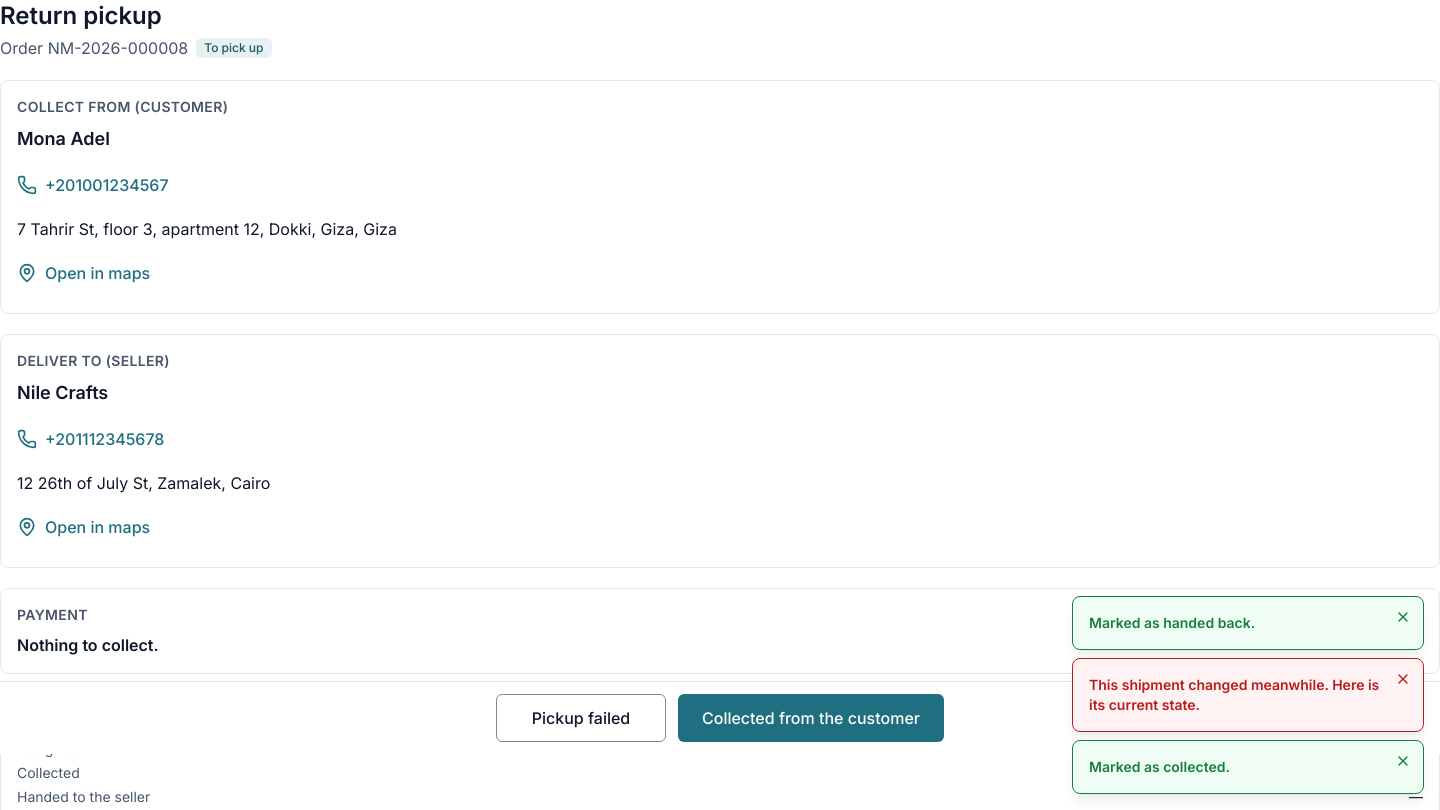
Test case: return pickup (spec 04 §7.3, T-N1) › R2 pickup failed: pickup reasons, return consequences, one key per intent
Step 1. Click the button "Pickup failed" → [581, 718], box [496, 694, 666, 742]
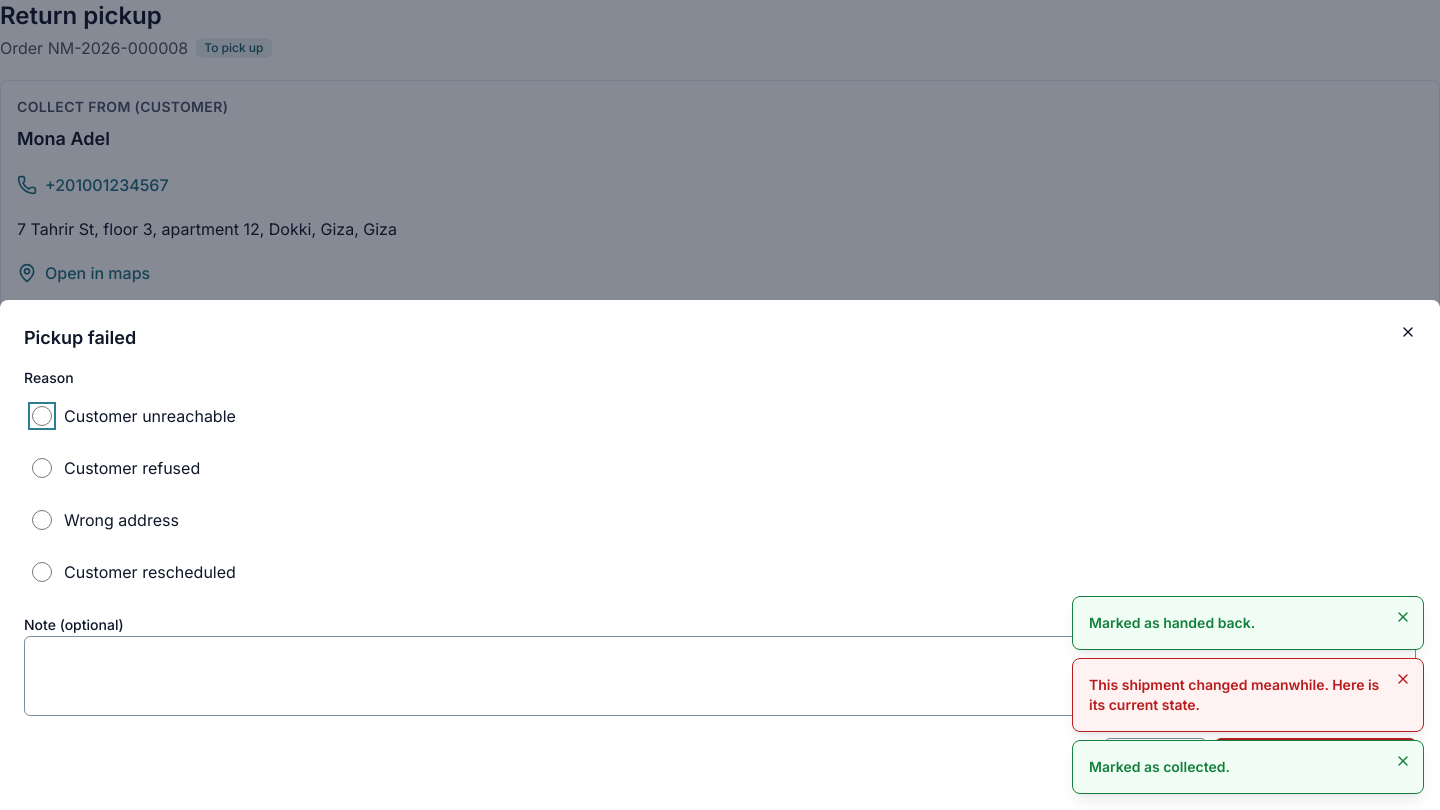
Step 2. Click the radio button labelled "Customer refused" → [42, 468], box [32, 458, 52, 478]
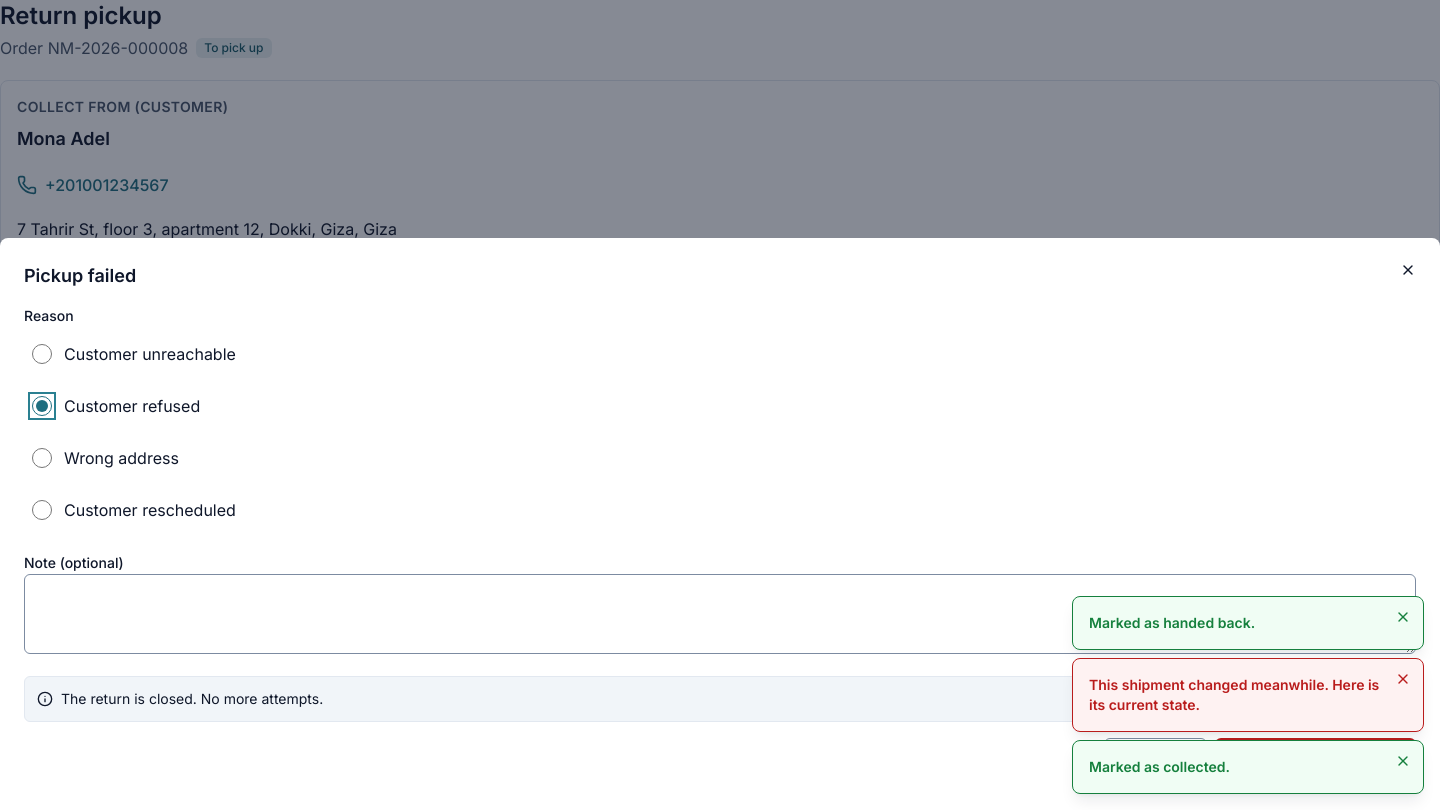
Check: the text "The return is closed. No more attempts." is shown, box [61, 689, 323, 709]
Step 3. Click the radio button labelled "Customer rescheduled" → [42, 510], box [32, 500, 52, 520]
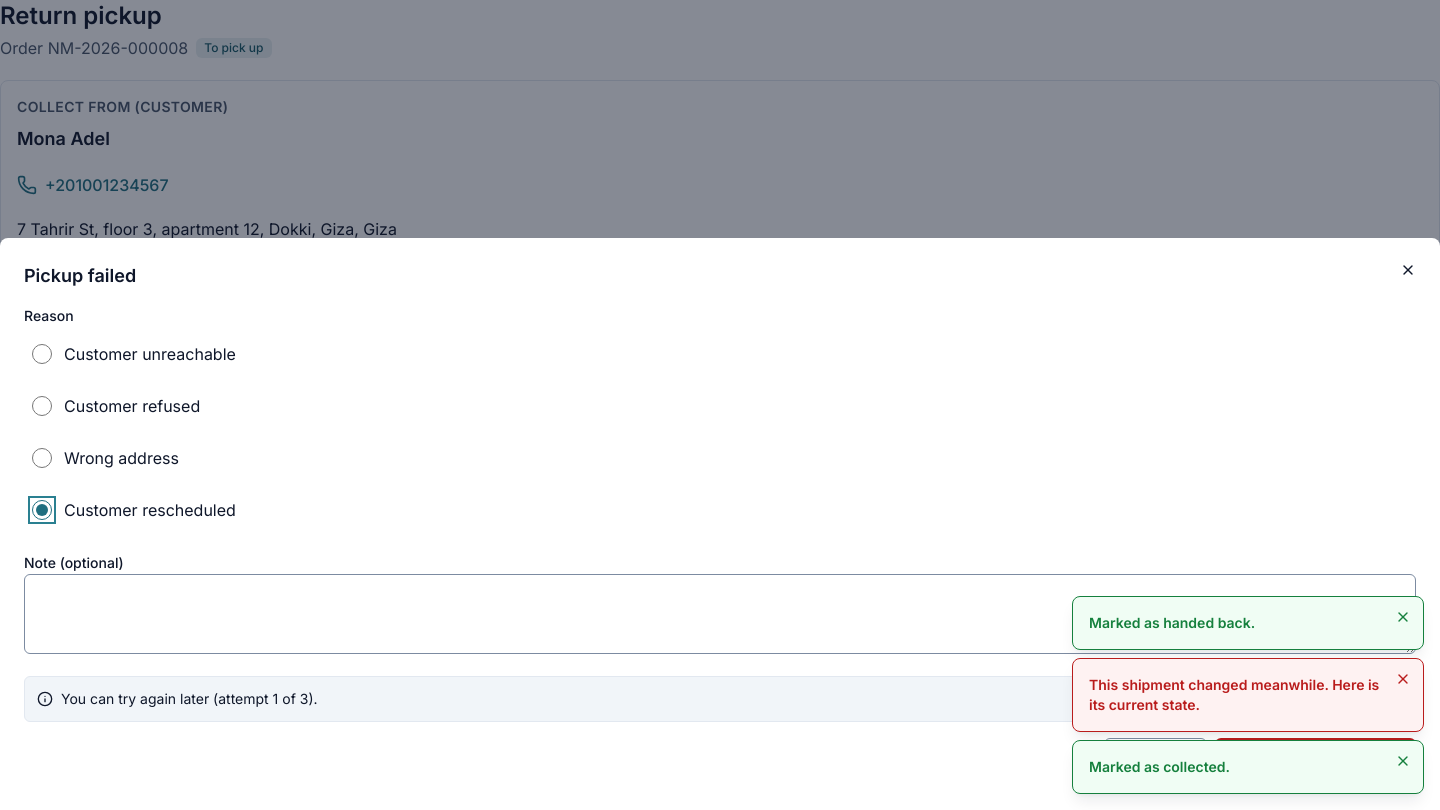
Check: the text "You can try again later (attempt 1 of 3)." is shown, box [61, 689, 318, 709]
Step 4. Type " Call after 5 " into the text box labelled "Note (optional)" → [720, 614], box [24, 574, 1416, 654]
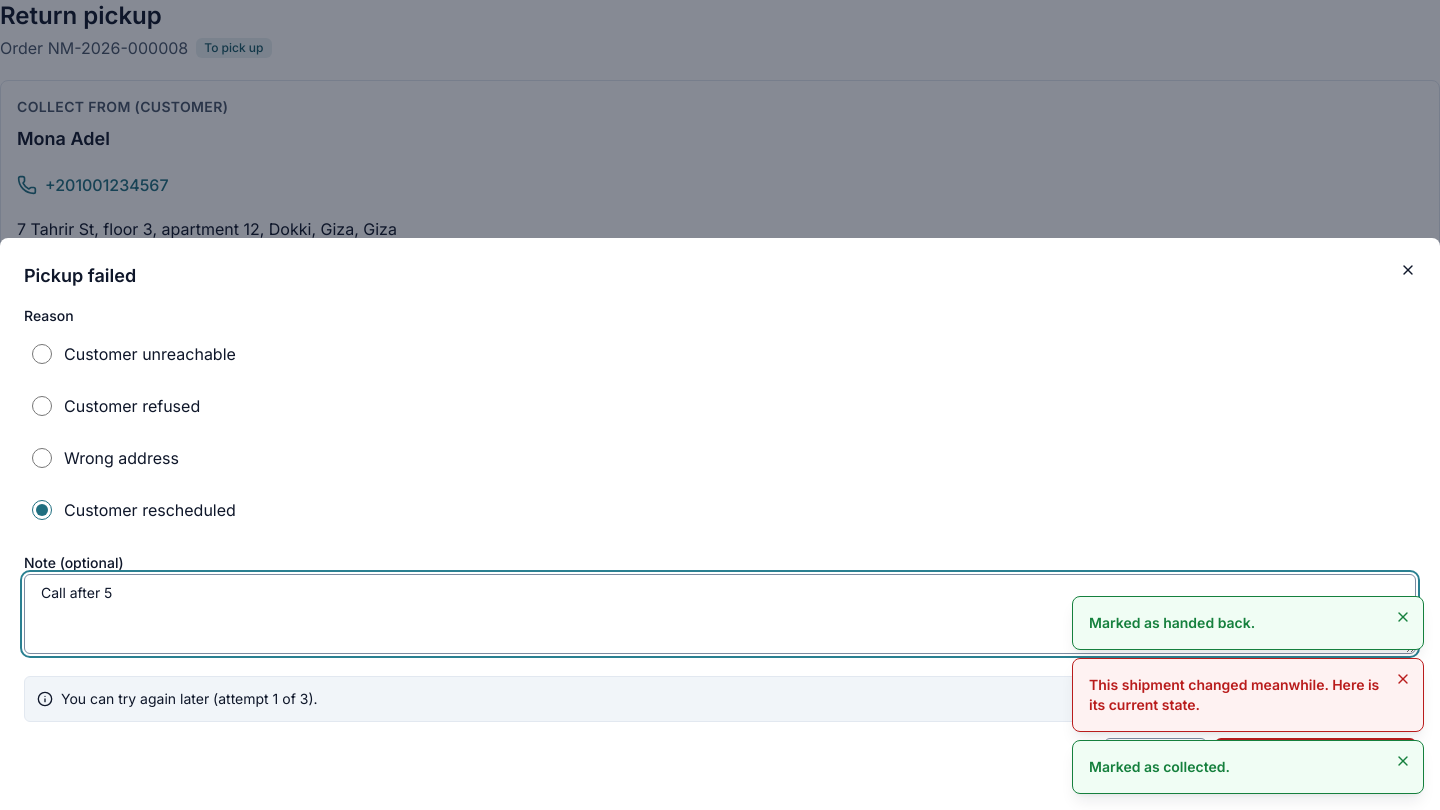
Step 5. Click the button "Report failed pickup" → [1315, 762], box [1215, 738, 1416, 786]
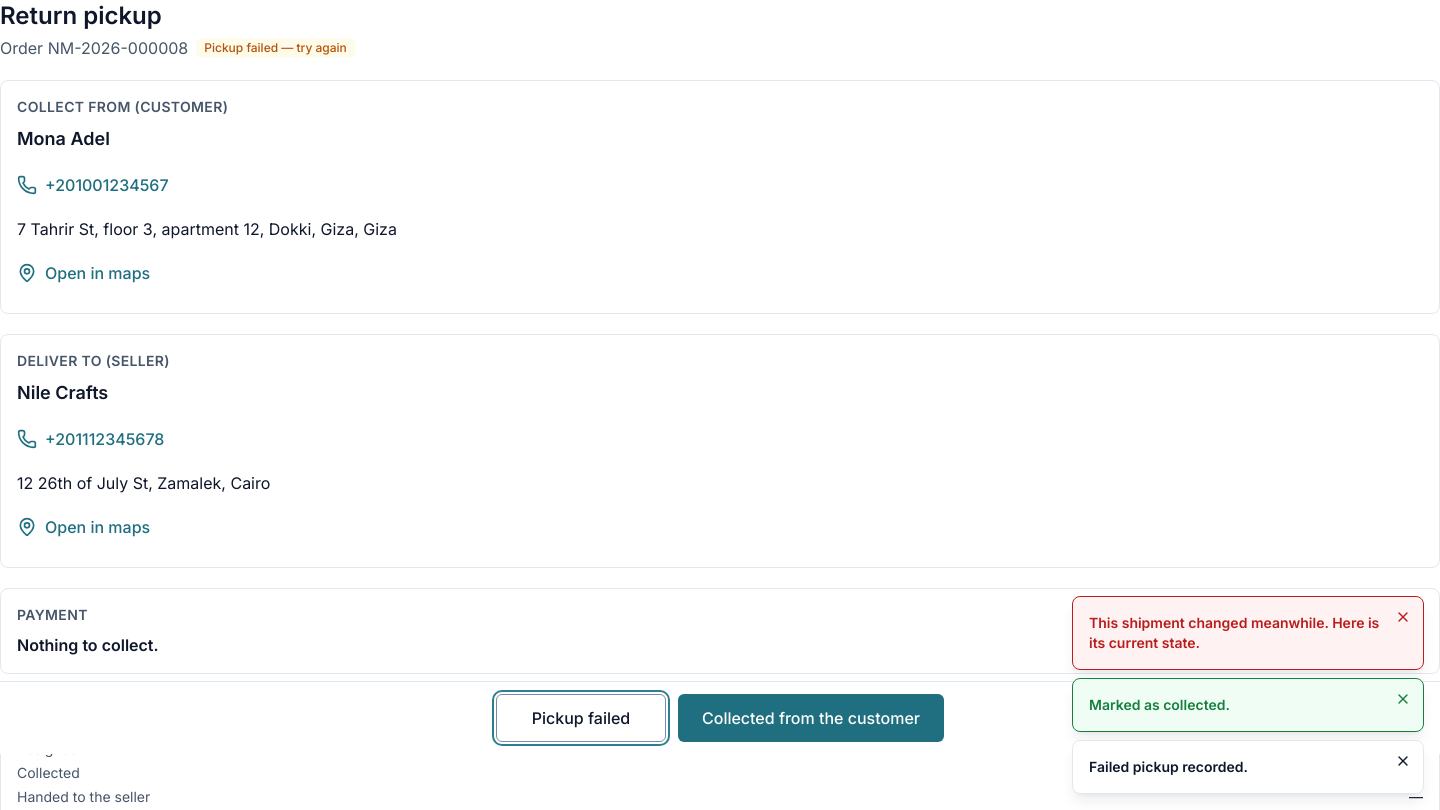
Check: the text "Failed pickup recorded." is shown, box [1089, 758, 1248, 775]
